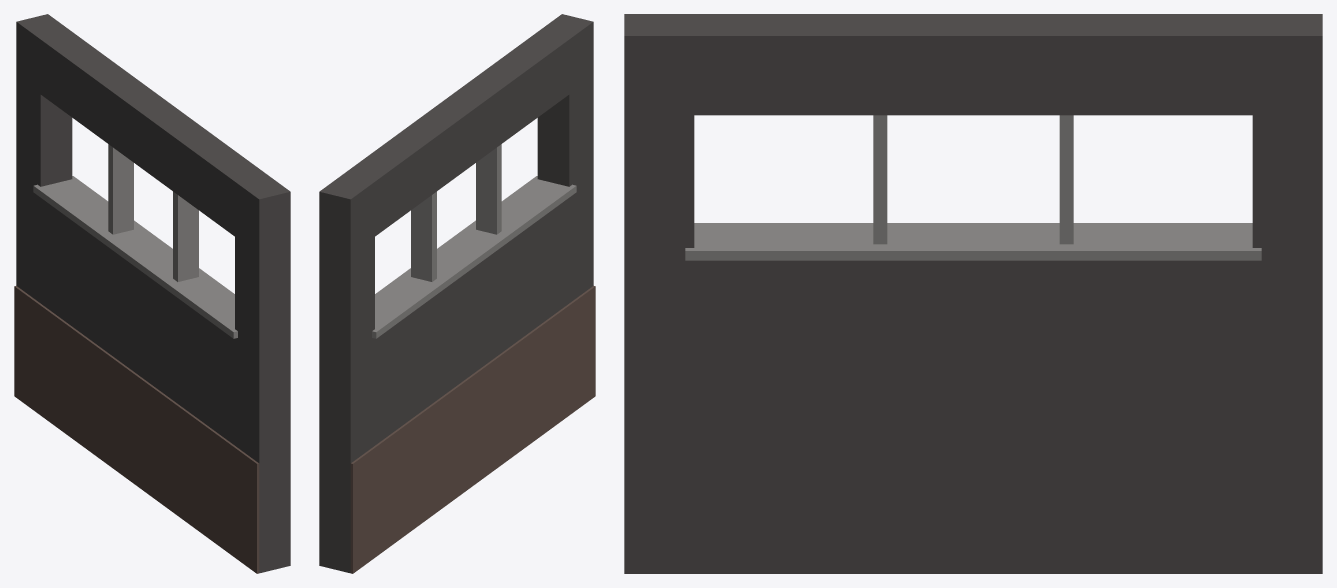
File: B_k_wall_win.glb
3 views of the same model, side by side, from view 1: azimuth 30°, elevation 25°; view 2: azimuth 150°, elevation 25°; view 3: azimuth 270°, elevation 25° (orthographic). The views are drawn at different scales.
Visible parts, largest first — view 1: Cube.004, Cube.002, Cube.001, Cube.003, Cube, Cube.005, Cube.006, Cube.007; view 2: Cube.004, Cube.002, Cube, Cube.003, Cube.001, Cube.005, Cube.007, Cube.006; view 3: Cube.002, Cube.003, Cube, Cube.001, Cube.005, Cube.006, Cube.007.
Boxes of the visible parts, x1,y1,x2,y2 form: Cube.004: [14, 285, 259, 573]; Cube.002: [40, 198, 234, 445]; Cube.001: [235, 174, 290, 573]; Cube.003: [40, 32, 266, 236]; Cube: [16, 14, 72, 302]; Cube.005: [33, 176, 237, 338]; Cube.006: [108, 144, 133, 234]; Cube.007: [173, 191, 198, 281]; Cube.004: [350, 285, 595, 573]; Cube.002: [374, 198, 569, 445]; Cube: [319, 174, 374, 573]; Cube.003: [344, 32, 569, 236]; Cube.001: [537, 14, 593, 302]; Cube.005: [372, 176, 576, 338]; Cube.007: [476, 144, 501, 234]; Cube.006: [411, 191, 436, 281]; Cube.002: [692, 260, 1254, 573]; Cube.003: [692, 14, 1254, 115]; Cube: [1252, 14, 1322, 573]; Cube.001: [624, 14, 694, 573]; Cube.005: [685, 223, 1261, 260]; Cube.006: [1059, 115, 1073, 244]; Cube.007: [873, 115, 887, 244].
Bounding box in the file's own units: 0.38 × 3.4 × 4.
